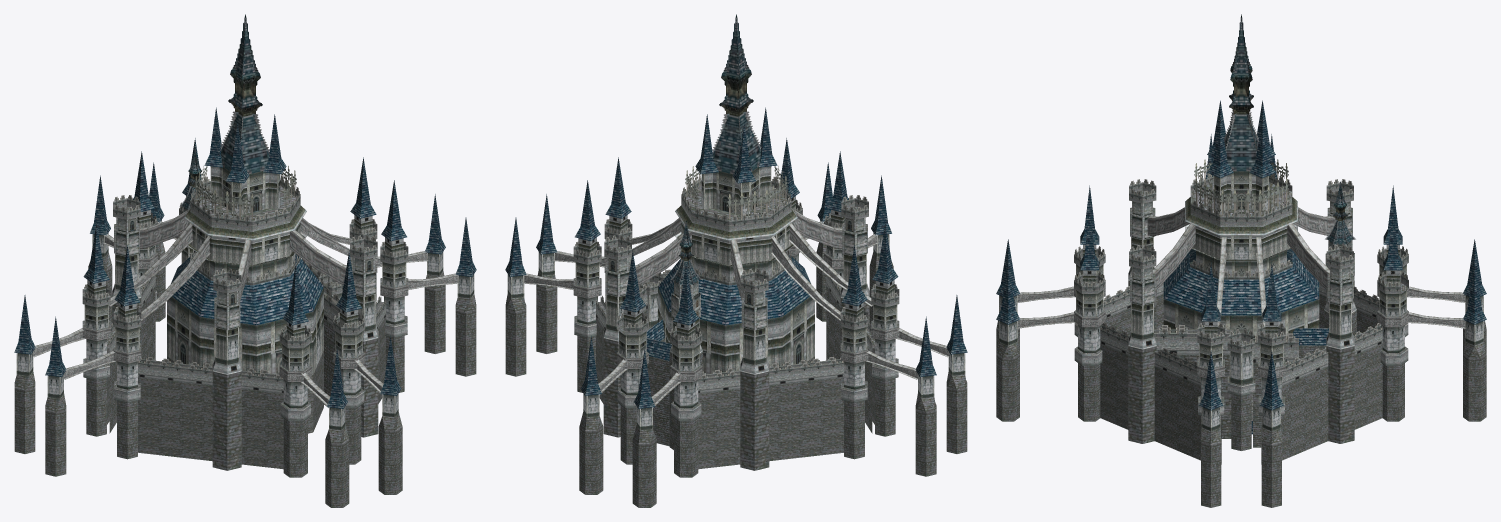
The model's file is Castle.fbx.
The picture shows the model from 3 angles, left to right: view 1: azimuth 30°, elevation 25°; view 2: azimuth 150°, elevation 25°; view 3: azimuth 270°, elevation 25°; orthographic projection.
Parts seen in each view (by area): view 1: Castle; view 2: Castle; view 3: Castle.
Boxes of the visible parts, bbox=[...] form: Castle: bbox=[14, 14, 476, 507]; Castle: bbox=[505, 14, 967, 507]; Castle: bbox=[996, 14, 1486, 507].
Bounding box in the file's own units: 19.65 × 17.24 × 19.65.
Materials: 1 (1 with a texture image).
